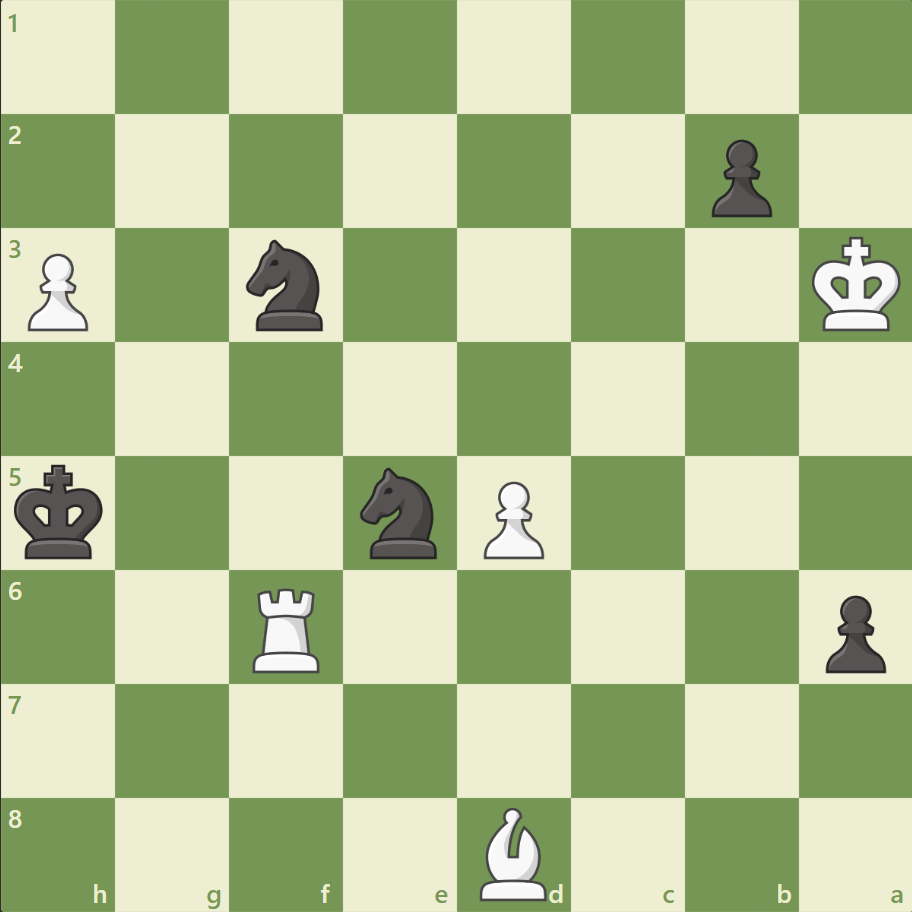B: (471, 801, 555, 904)
K: (806, 231, 906, 339)
P: (474, 473, 549, 564), (20, 246, 95, 337)
R: (246, 579, 329, 676)
k: (11, 458, 111, 566)
n: (351, 461, 449, 564), (238, 234, 335, 337)
p: (701, 132, 776, 223), (815, 586, 889, 677)
